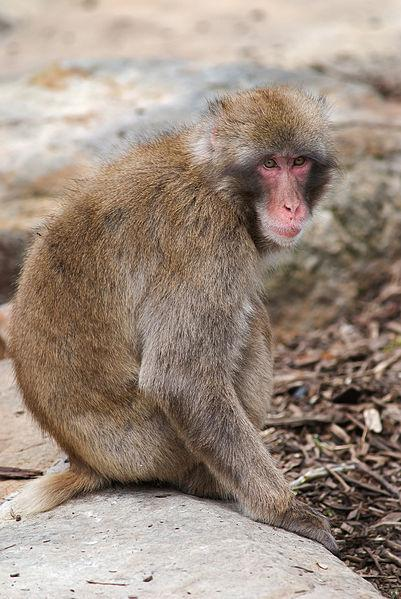monkey: (7, 84, 338, 554)
